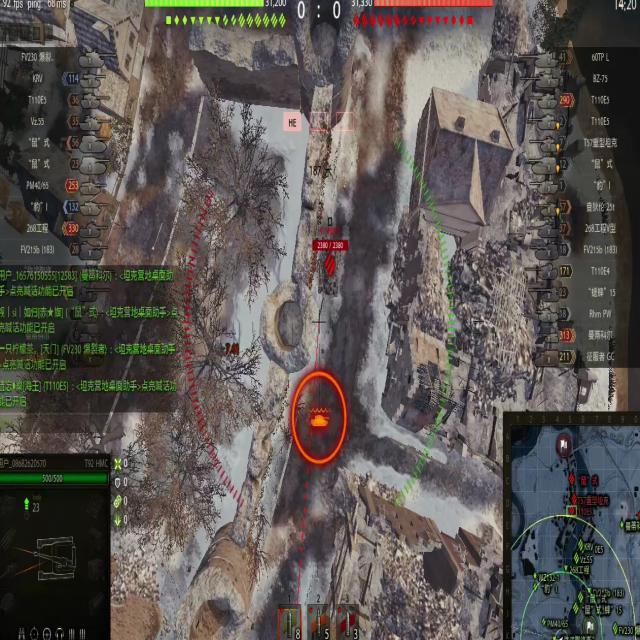tank: (313, 233, 349, 299)
